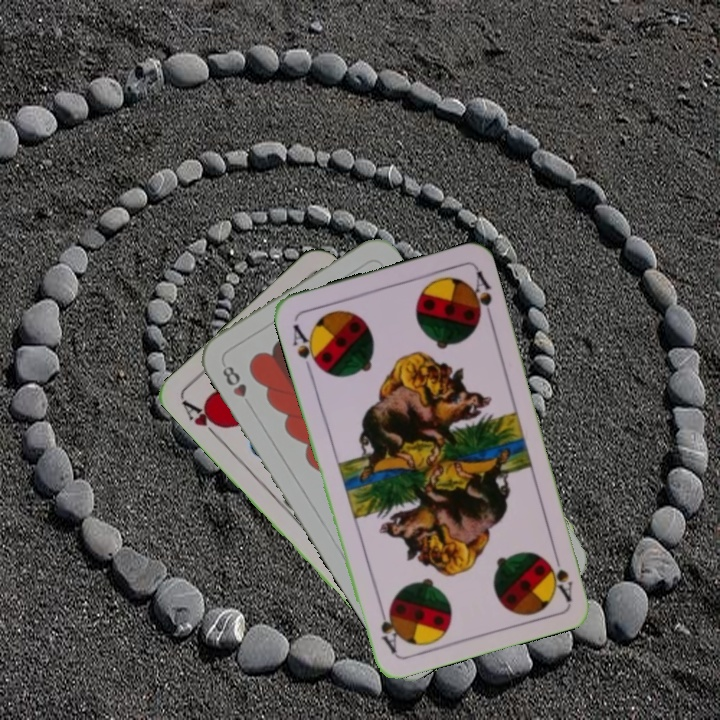H8: (218, 362, 256, 411)
HA: (178, 396, 229, 444)
SA: (289, 320, 324, 372), (545, 545, 575, 603)
